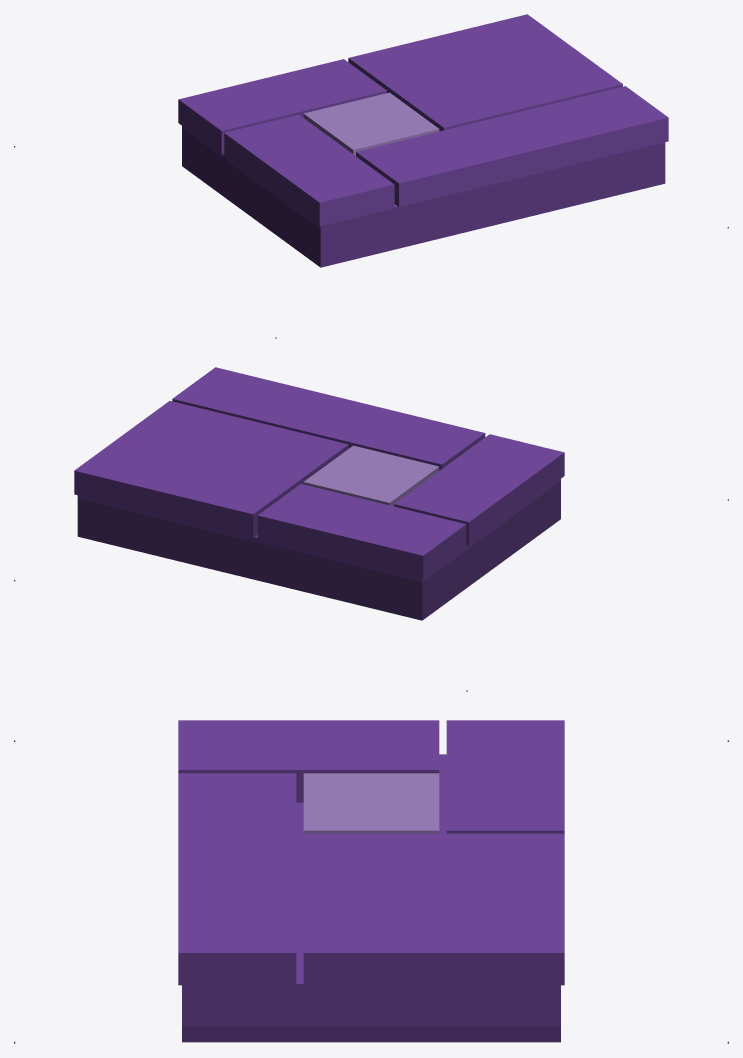
The model's file is floor_crystal_end.glb.
3 renders of one model, top to bottom at view 1: azimuth 30°, elevation 25°; view 2: azimuth 150°, elevation 25°; view 3: azimuth 270°, elevation 25°, orthographic. The views are drawn at different scales.
Size of the model in its own units: 1 by 0.14 by 1.
Materials: 1 (1 with a texture image).
